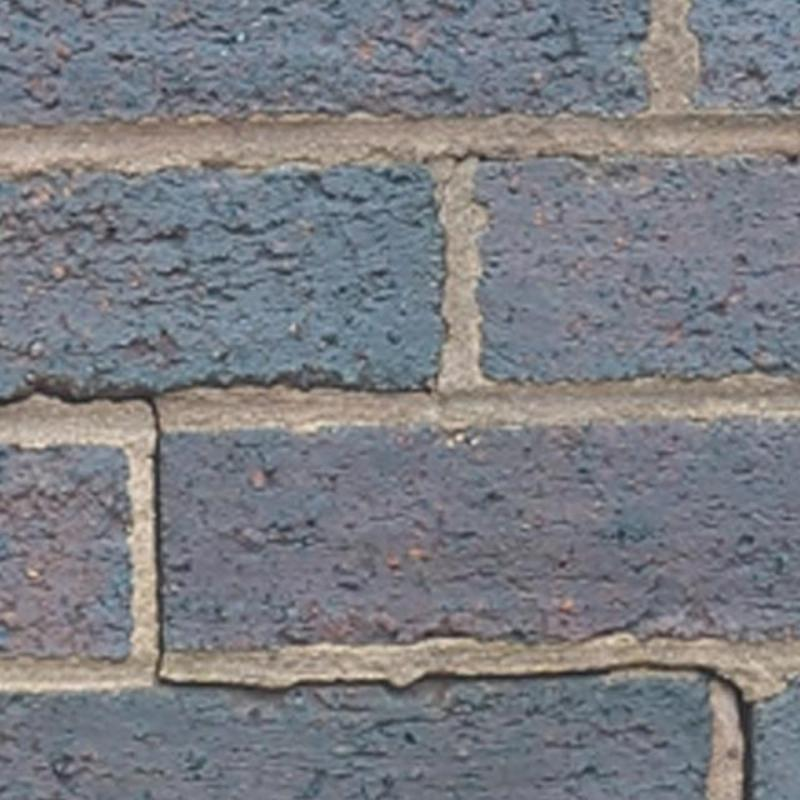pothole: (110, 396, 758, 799)
